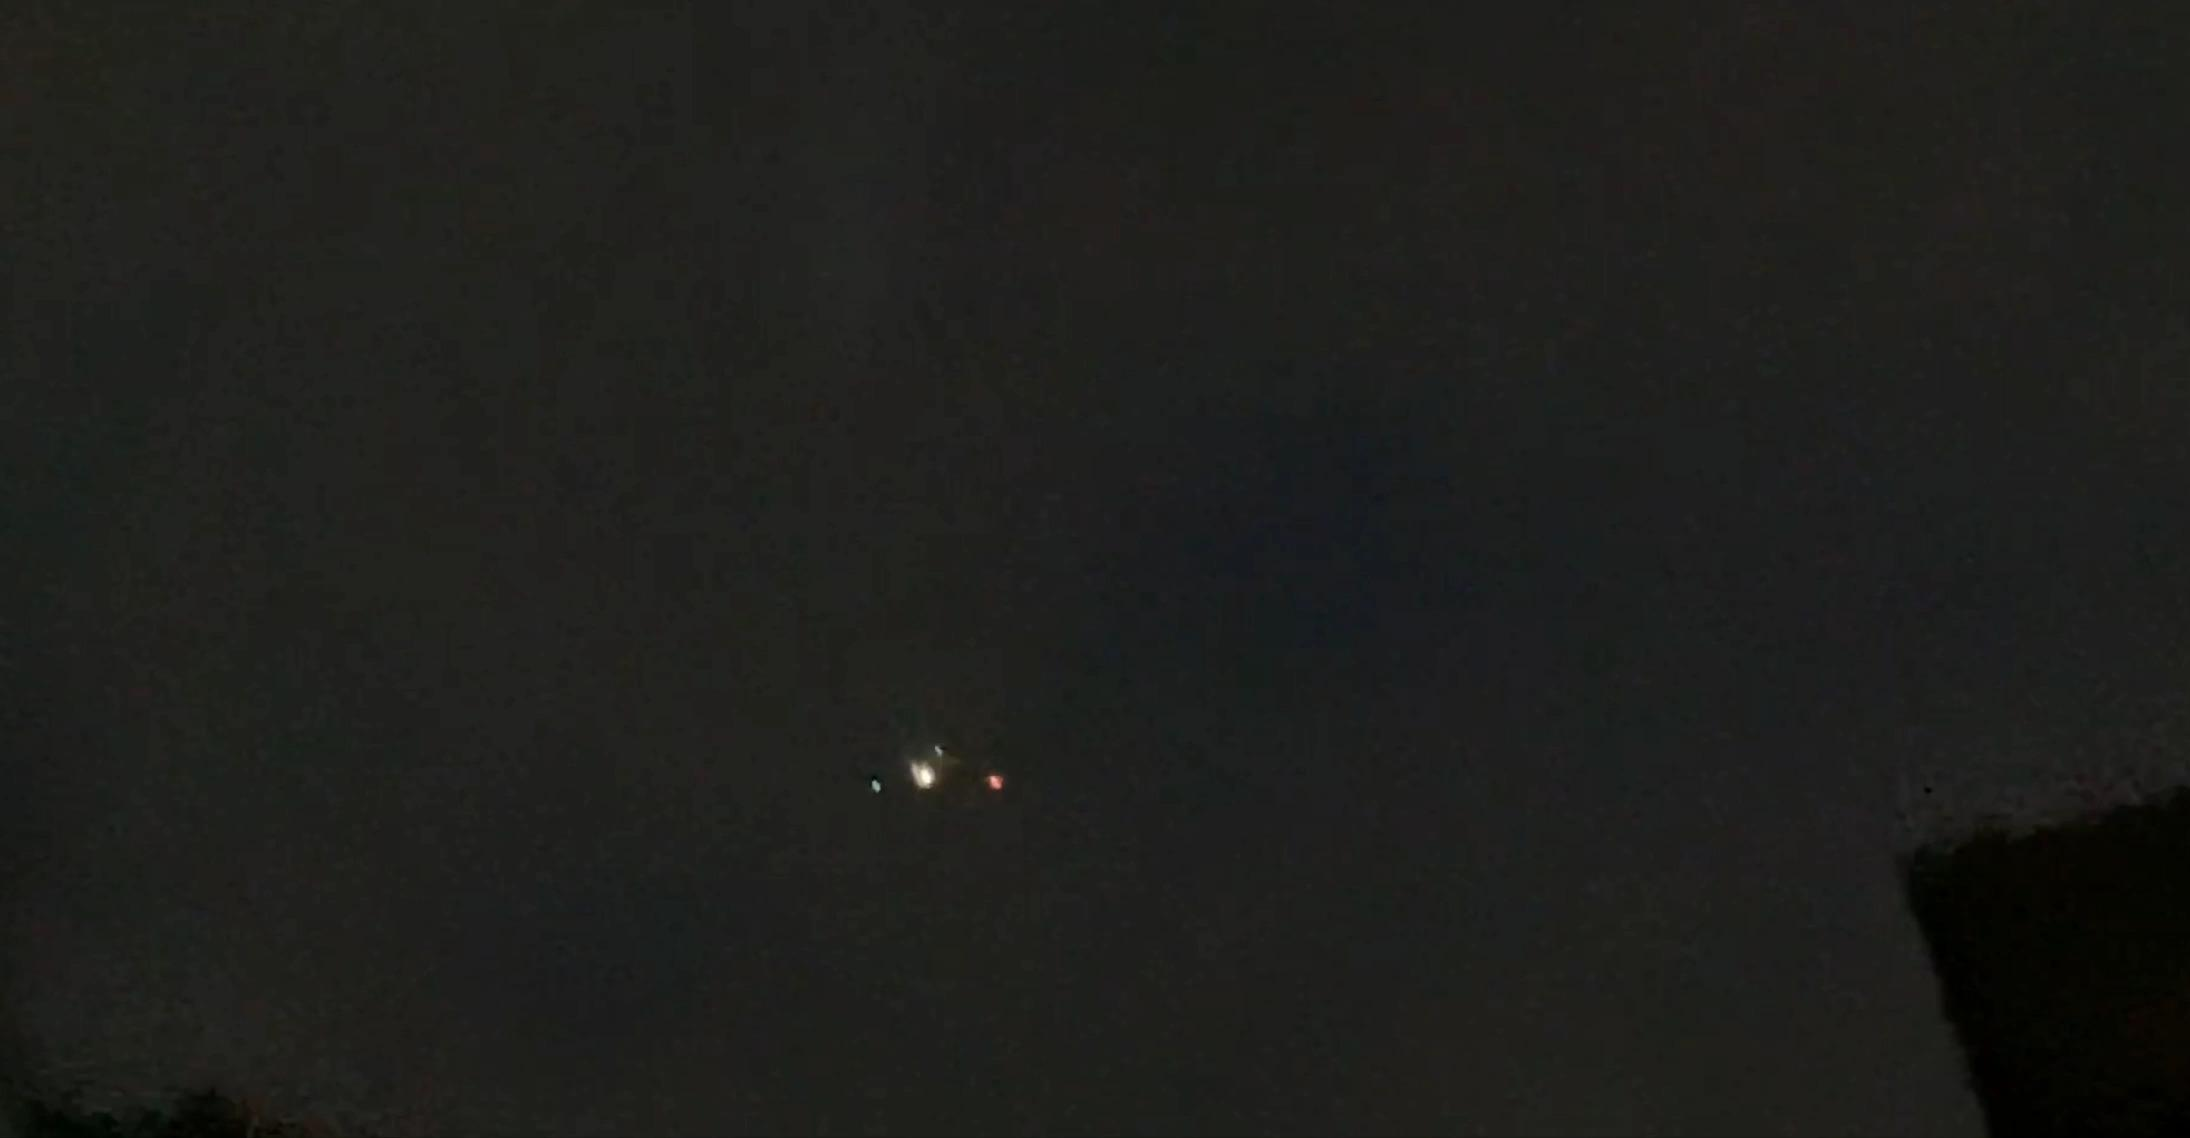Plane: (800, 717, 1076, 824)
